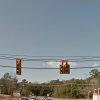Traffic light: (10, 51, 82, 83)
